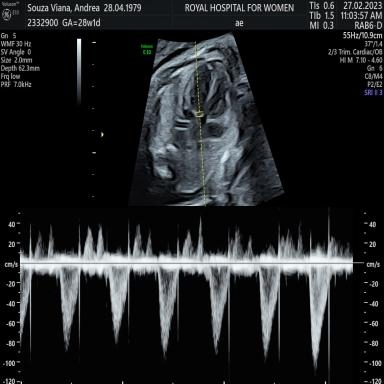Ultrasound-Waves: (24, 211, 352, 384)
